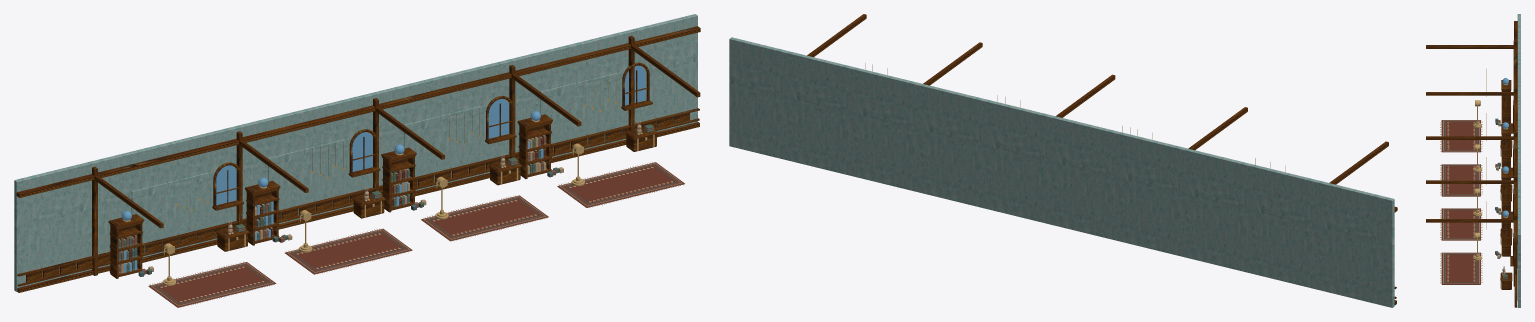
File: reference-room-0.glb
The picture shows the model from 3 angles, left to right: view 1: azimuth 30°, elevation 25°; view 2: azimuth 150°, elevation 25°; view 3: azimuth 270°, elevation 25°; orthographic projection. The views are drawn at different scales.
Visible parts, largest first — view 1: plaster backdrop, wall moulding, woven rug, lower wainscot panel, book cover.004, rug long stitch, brass lamp pedestal, rug long stitch.002, rug long stitch.004, book cover.006; view 2: plaster backdrop, wall moulding; view 3: woven rug, wall moulding, lower wainscot panel, rug long stitch, plaster backdrop, brass lamp pedestal, rug long stitch.004, rug long stitch.002, book cover.004.
Part boxes in pixels (<box>): plaster backdrop: <box>14,14,697,291</box>; wall moulding: <box>16,26,700,292</box>; woven rug: <box>148,162,684,307</box>; lower wainscot panel: <box>26,100,689,282</box>; book cover.004: <box>122,65,645,272</box>; rug long stitch: <box>120,121,683,307</box>; brass lamp pedestal: <box>119,75,654,285</box>; rug long stitch.002: <box>118,122,679,304</box>; rug long stitch.004: <box>118,129,677,303</box>; book cover.006: <box>118,124,654,274</box>; plaster backdrop: <box>729,37,1394,307</box>; wall moulding: <box>807,14,1397,304</box>; woven rug: <box>1441,120,1480,284</box>; wall moulding: <box>1426,21,1517,307</box>; lower wainscot panel: <box>1500,90,1517,300</box>; rug long stitch: <box>1440,120,1505,283</box>; plaster backdrop: <box>1517,14,1520,307</box>; brass lamp pedestal: <box>1473,69,1508,288</box>; rug long stitch.004: <box>1445,118,1507,282</box>; rug long stitch.002: <box>1444,120,1507,283</box>; book cover.004: <box>1502,78,1508,217</box>.
Size of the model in its own units: 40 by 6.2 by 7.27.
14 materials, 6 textured.
